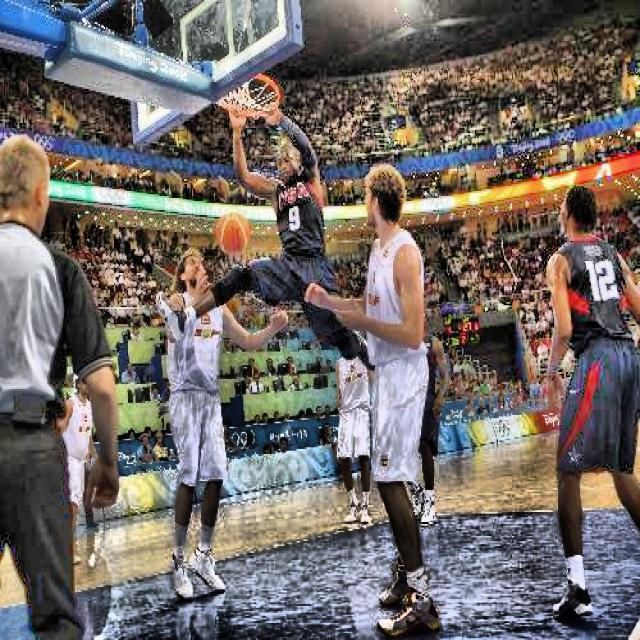board: (215, 212, 250, 252)
rim: (215, 72, 280, 118)
